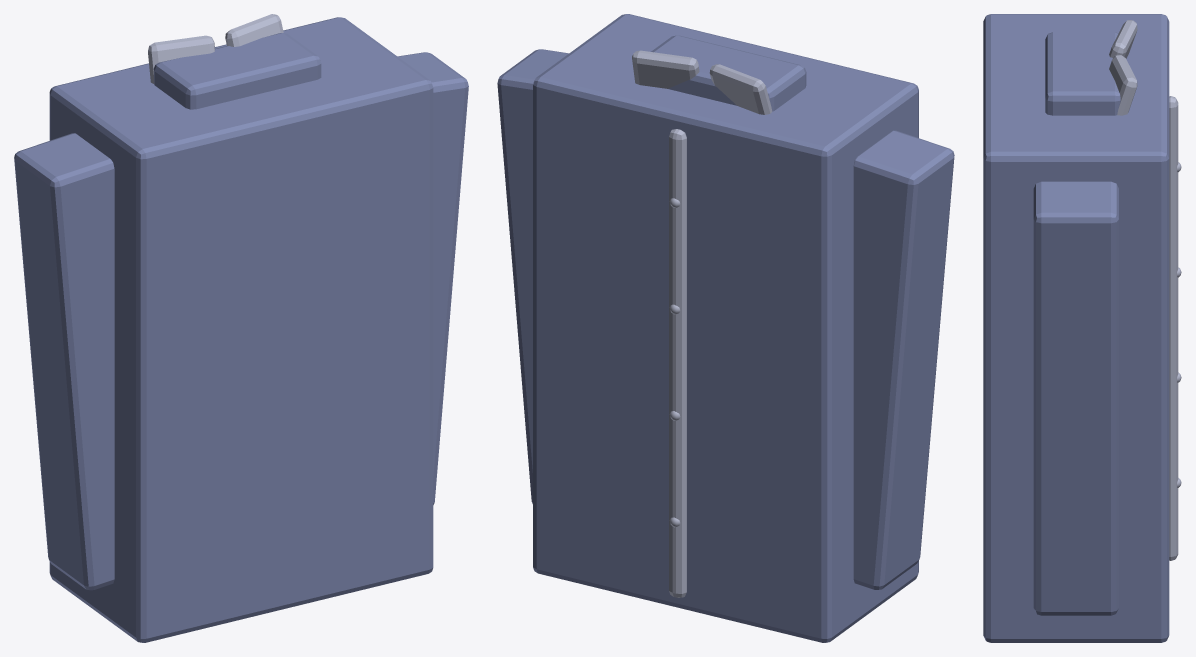
The model's file is VM-CAB-EXT87.glb.
3 views of the same model, side by side, from view 1: azimuth 30°, elevation 25°; view 2: azimuth 150°, elevation 25°; view 3: azimuth 270°, elevation 25° (orthographic).
Parts seen in each view (by area): view 1: Camisa Cuadros Hombre; view 2: Camisa Cuadros Hombre; view 3: Camisa Cuadros Hombre.
Boxes of the visible parts, x1,y1,x2,y2 form: Camisa Cuadros Hombre: (14, 14, 468, 642); Camisa Cuadros Hombre: (497, 14, 954, 642); Camisa Cuadros Hombre: (983, 14, 1181, 642).
Bounding box in the file's own units: 0.6968 × 0.8407 × 0.2876.
